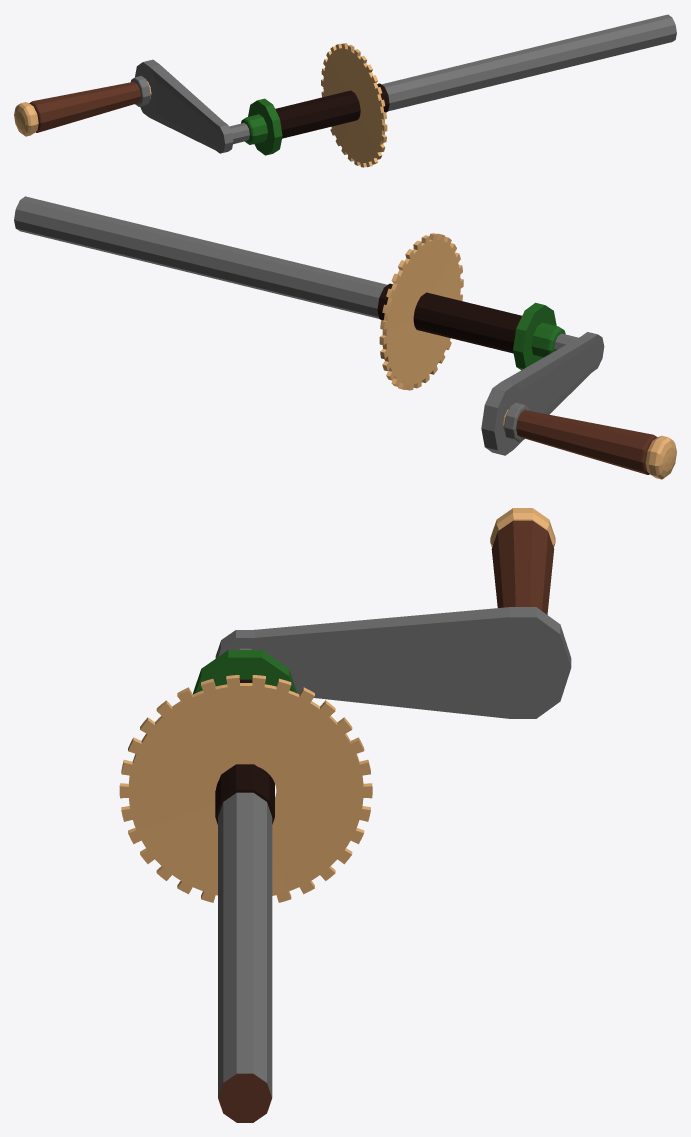
File: turn_lever_mechanical_room.glb
The picture shows the model from 3 angles, top to bottom: view 1: azimuth 30°, elevation 25°; view 2: azimuth 150°, elevation 25°; view 3: azimuth 270°, elevation 25°; orthographic projection. The views are drawn at different scales.
Visible parts, largest first — view 1: turning-lever.001; view 2: turning-lever.001; view 3: turning-lever.001.
Boxes of the visible parts, box(x1,y1,x2,y2) form: turning-lever.001: box(14, 14, 676, 167); turning-lever.001: box(14, 196, 676, 479); turning-lever.001: box(119, 508, 571, 1122).
Bounding box in the file's own units: 0.7432 × 0.1398 × 0.25.
